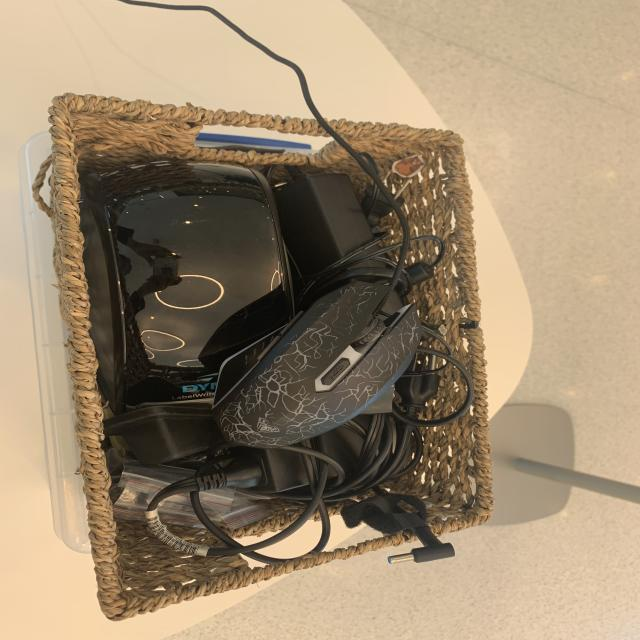Mouse: (205, 276, 442, 452)
